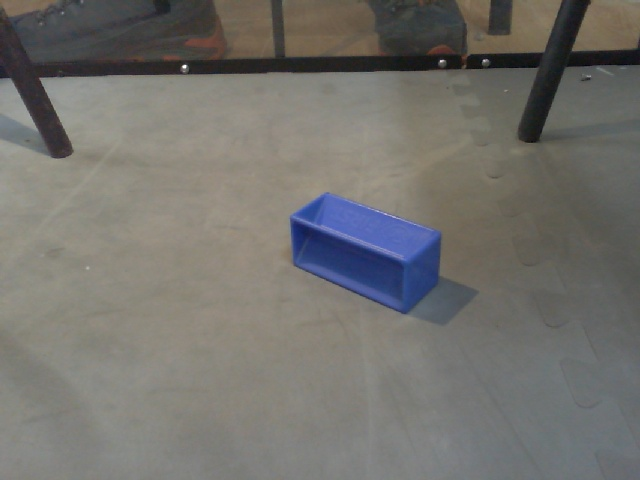BlueSample: (285, 188, 445, 317)
